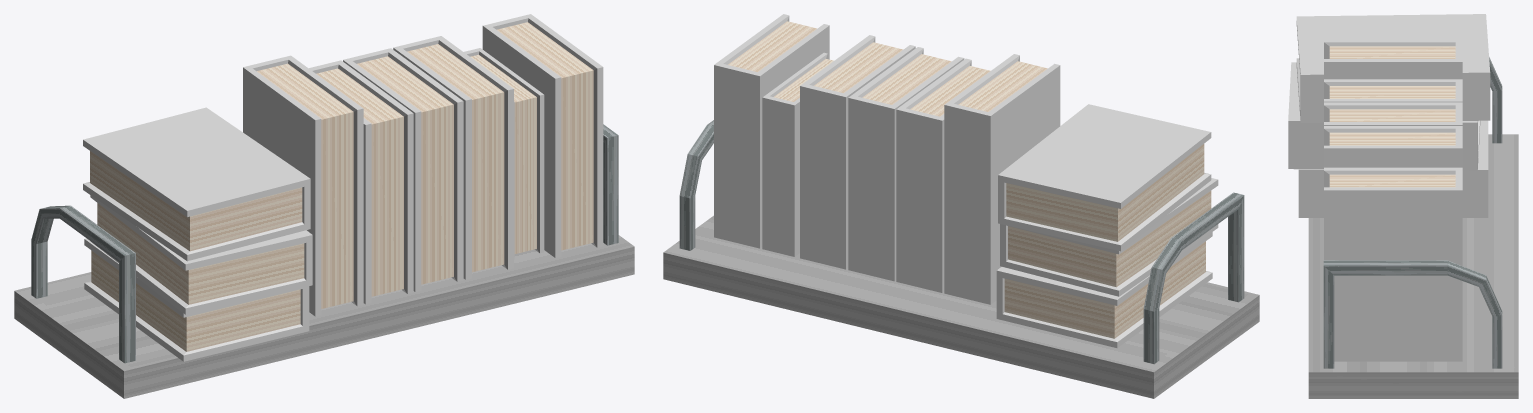
File: shelf.fbx
3 views of the same model, side by side, from view 1: azimuth 30°, elevation 25°; view 2: azimuth 150°, elevation 25°; view 3: azimuth 270°, elevation 25° (orthographic). The views are drawn at different scales.
Parts seen in each view (by area): view 1: shelf, Book.005, Book.002, Book.007, Book.006, Book, Book.001, Book.004, Book.003, fence, Book.008; view 2: shelf, Book.005, Book.002, Book.007, Book.006, Book, Book.001, Book.003, Book.004, fence, Book.008; view 3: Book.007, shelf, Book.005, Book.006, Book.002, fence, Book, Book.001, Book.004, Book.003.
Part boxes in pixels (x1=…): shelf: x1=14, y1=235, x2=634, y2=398; Book.005: x1=83, y1=107, x2=310, y2=261; Book.002: x1=243, y1=55, x2=363, y2=316; Book.007: x1=482, y1=14, x2=603, y2=257; Book.006: x1=393, y1=36, x2=513, y2=279; Book: x1=343, y1=48, x2=463, y2=292; Book.001: x1=309, y1=60, x2=413, y2=304; Book.004: x1=90, y1=195, x2=312, y2=314; Book.003: x1=84, y1=238, x2=309, y2=361; fence: x1=31, y1=124, x2=618, y2=363; Book.008: x1=464, y1=48, x2=544, y2=259; shelf: x1=663, y1=215, x2=1259, y2=398; Book.005: x1=998, y1=104, x2=1211, y2=251; Book.002: x1=944, y1=54, x2=1060, y2=304; Book.007: x1=714, y1=14, x2=829, y2=248; Book.006: x1=800, y1=35, x2=915, y2=269; Book: x1=848, y1=47, x2=964, y2=281; Book.001: x1=896, y1=58, x2=990, y2=292; Book.003: x1=996, y1=232, x2=1212, y2=348; Book.004: x1=1000, y1=178, x2=1218, y2=296; fence: x1=679, y1=120, x2=1244, y2=364; Book.008: x1=762, y1=52, x2=833, y2=256; Book.007: x1=1324, y1=167, x2=1462, y2=361; shelf: x1=1308, y1=134, x2=1518, y2=398; Book.005: x1=1296, y1=14, x2=1490, y2=122; Book.006: x1=1324, y1=126, x2=1462, y2=167; Book.002: x1=1324, y1=39, x2=1462, y2=79; fence: x1=1323, y1=57, x2=1502, y2=368; Book: x1=1324, y1=102, x2=1462, y2=125; Book.001: x1=1324, y1=79, x2=1462, y2=102; Book.004: x1=1288, y1=62, x2=1480, y2=170; Book.003: x1=1298, y1=120, x2=1488, y2=217.
Size of the model in its own units: 201 by 84.14 by 82.11.
Materials: 6 (1 with a texture image).
